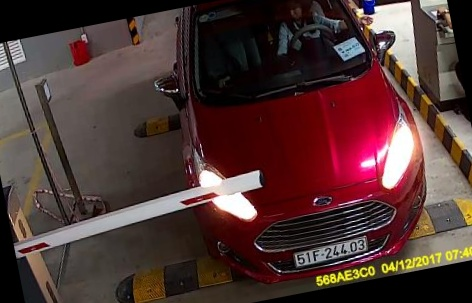plate: (290, 228, 370, 268)
